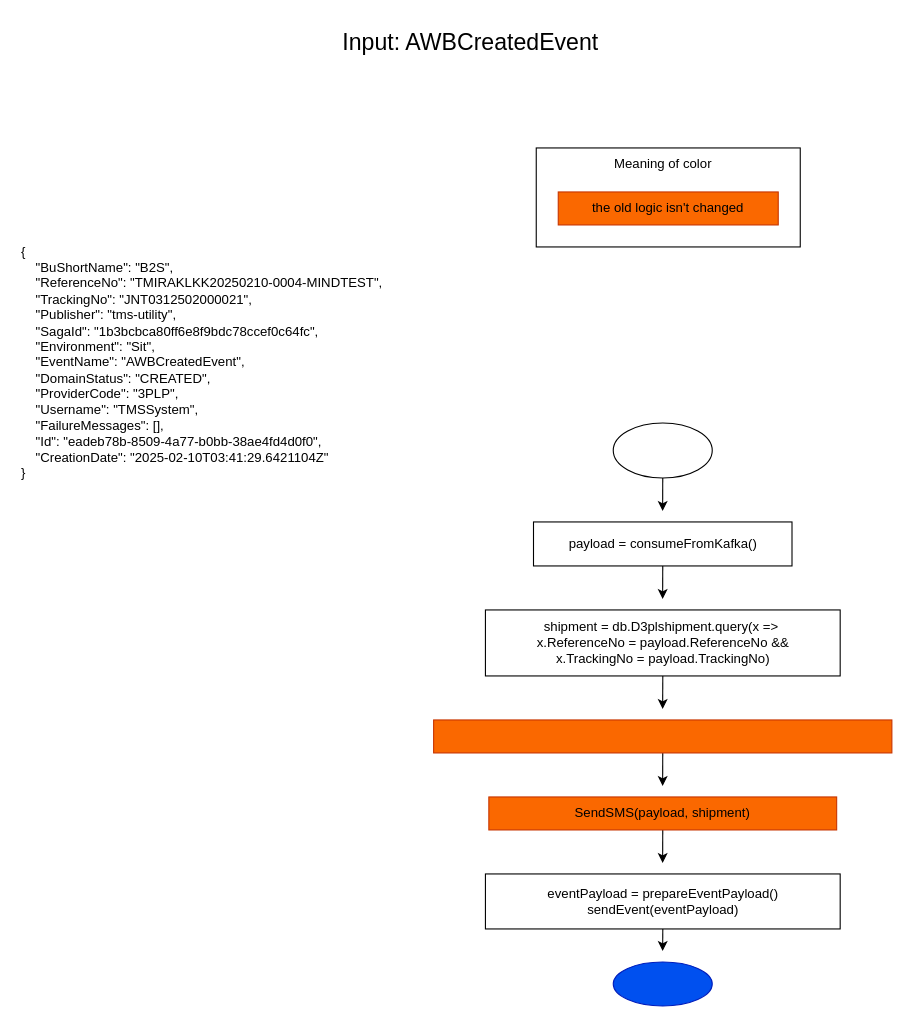
Some shapes in this 911 by 1025 pixel diagram are drawn without their labels. The centre of each missing label's shape, as x and y in pixels:
end: (662,983)
SendToOrderTypeFollowOrderTypeMappingStatus(payload, shipment): (662,736)
start: (662,450)
